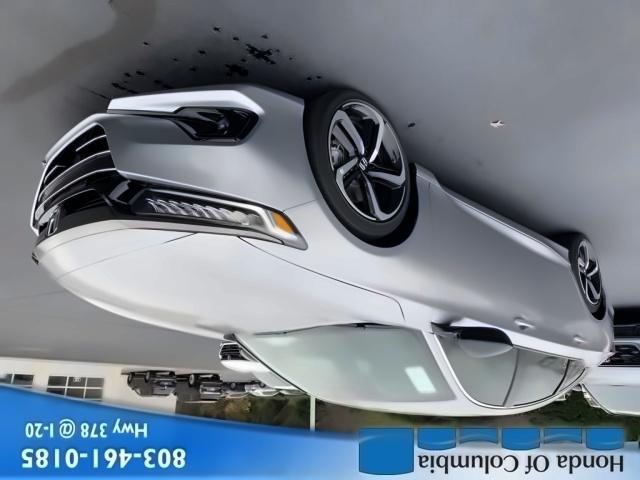Car hood: (21, 229, 418, 338)
Driver-s door - -F-R-: (414, 146, 539, 423)
Fender - -F-R-: (243, 145, 443, 334)
Front bumper: (29, 84, 325, 240)
Headlight - -R-: (105, 178, 308, 247)
Passenger-s door - -R-R-: (501, 207, 596, 424)
Side mirror - -R-: (435, 318, 518, 359)
